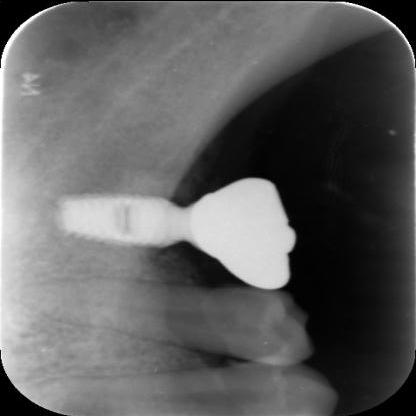Bicon: (51, 192, 194, 248)
